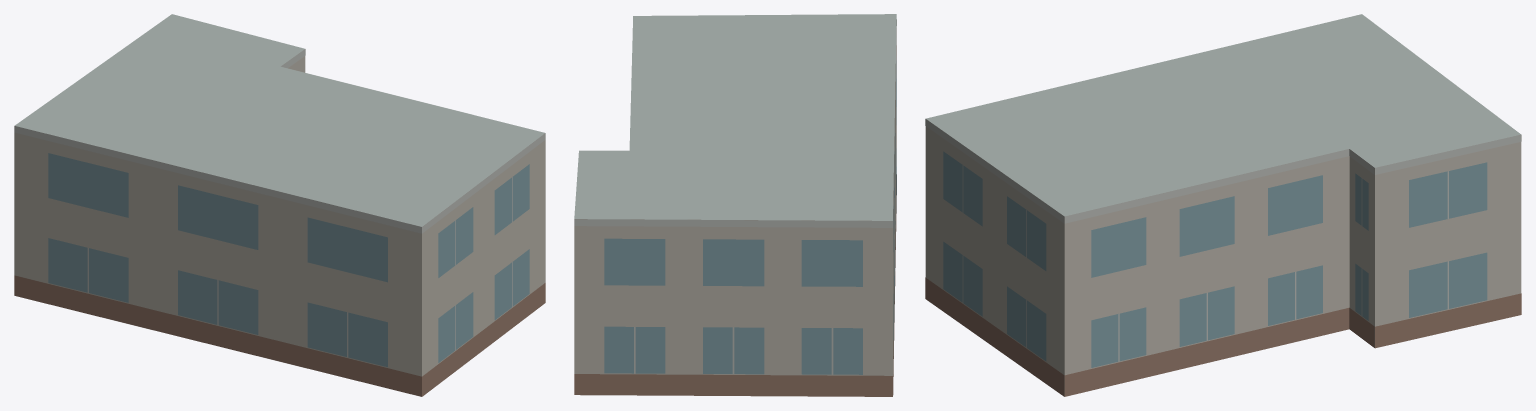
Rendered from survey-upis-32720099.glb.
The picture shows the model from 3 angles, left to right: view 1: azimuth 30°, elevation 25°; view 2: azimuth 150°, elevation 25°; view 3: azimuth 270°, elevation 25°; orthographic projection. The views are drawn at different scales.
Visible parts, largest first — view 1: survey-upis-32720099.tmp; view 2: survey-upis-32720099.tmp; view 3: survey-upis-32720099.tmp.
Boxes of the visible parts, x1,y1,x2,y2 form: survey-upis-32720099.tmp: (14,14,545,396); survey-upis-32720099.tmp: (574,14,896,396); survey-upis-32720099.tmp: (925,14,1521,396).
Size of the model in its own units: 14.7 by 6.1 by 18.28.
